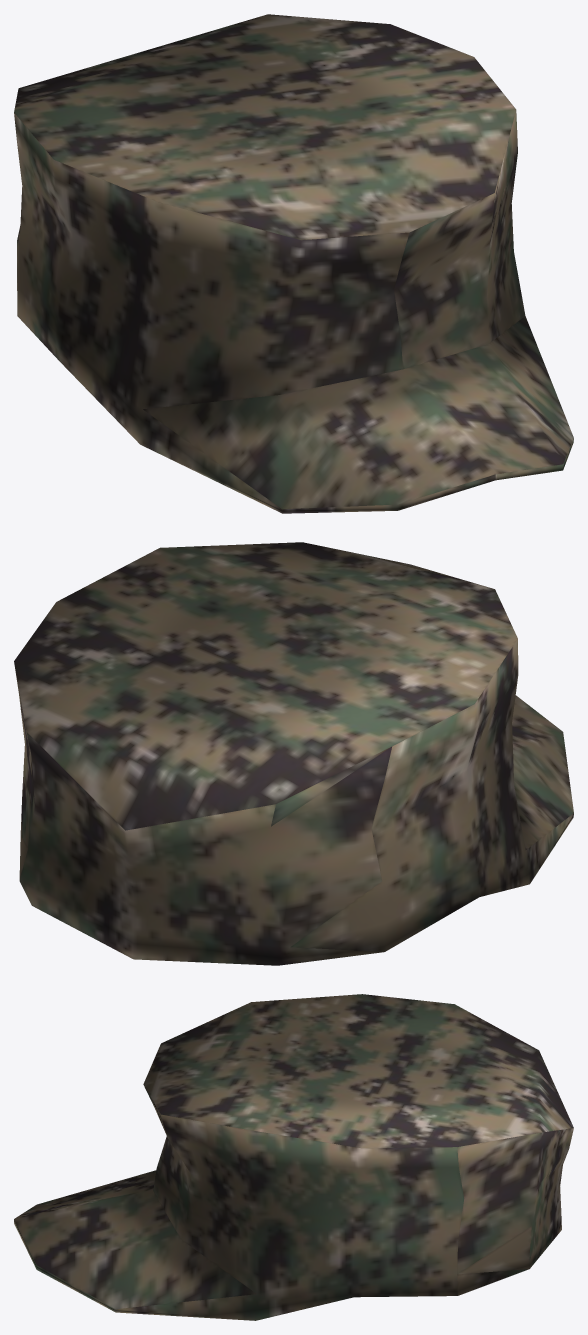
File: USMC_Cap_Worlditem.fbx
3 renders of one model, top to bottom at view 1: azimuth 30°, elevation 25°; view 2: azimuth 150°, elevation 25°; view 3: azimuth 270°, elevation 25°, orthographic. The views are drawn at different scales.
Visible parts, largest first — view 1: Cylinder; view 2: Cylinder; view 3: Cylinder.
Part boxes in pixels (box(x1,y1,x2,y2)): Cylinder: box(14, 14, 573, 513); Cylinder: box(14, 542, 573, 965); Cylinder: box(14, 994, 573, 1320).
Bounding box in the file's own units: 0.189 × 0.0723 × 0.1233.
